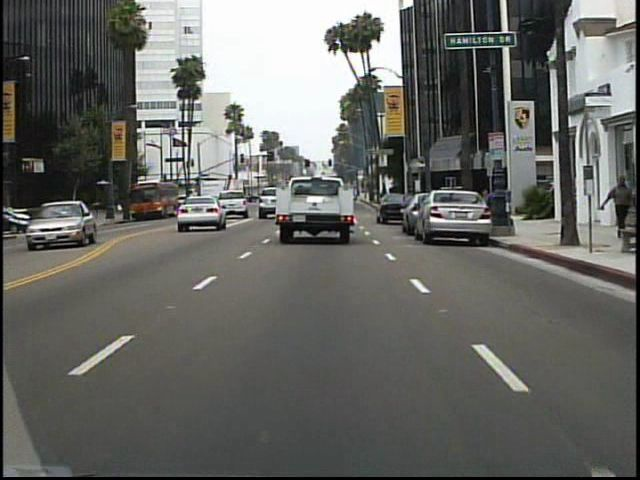person: (597, 173, 633, 237), (92, 195, 107, 224)
